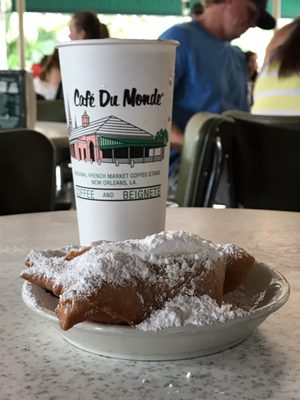sushi: (5, 216, 291, 364), (41, 261, 289, 364)
